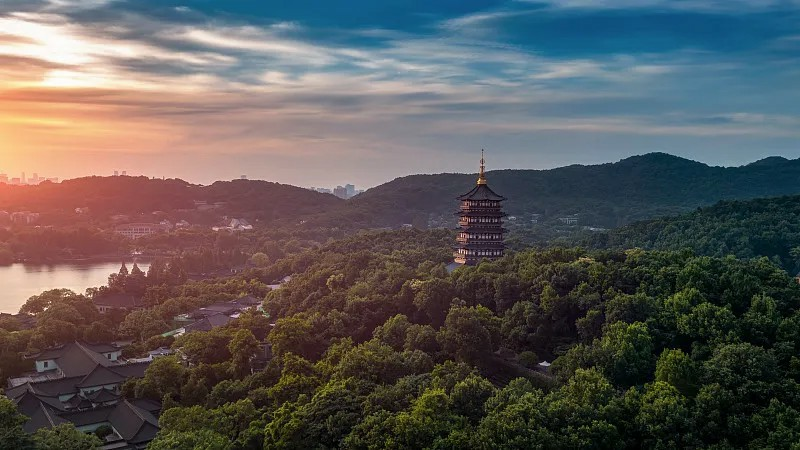Leifeng: (444, 146, 505, 282)
